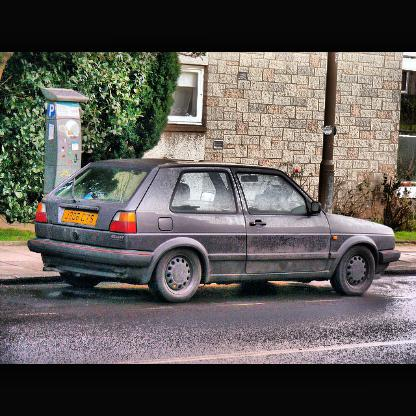Volkswagen Golf Hatchback 1991: (28, 159, 403, 301)
